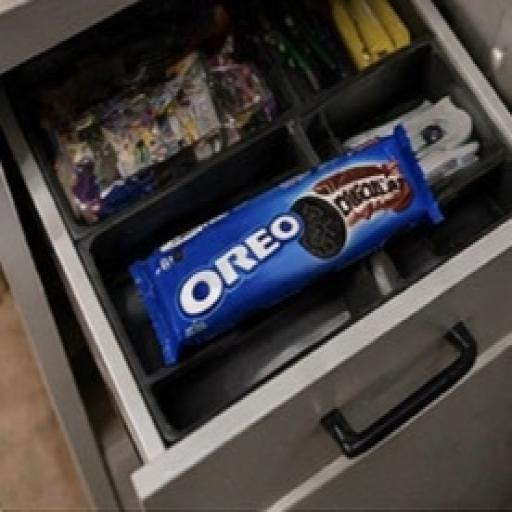oreo: (102, 118, 479, 388)
